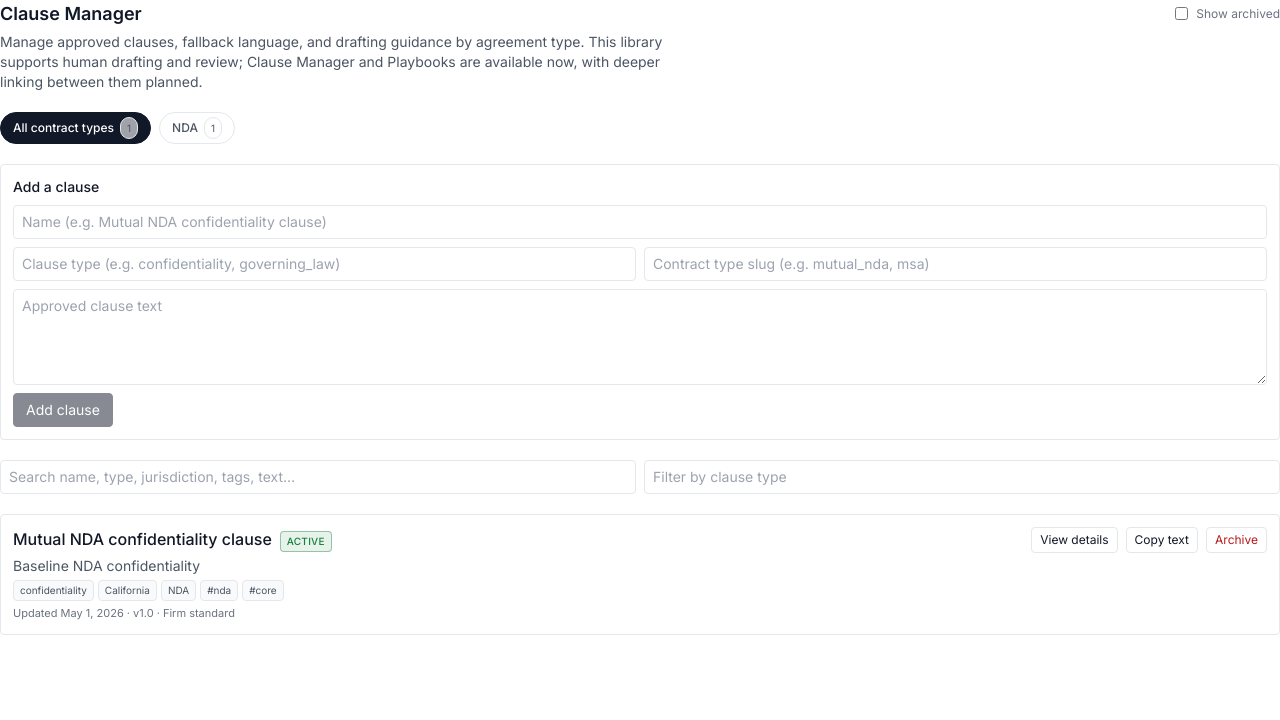
Test case: ClauseLibraryPage › expands and shows the clause text on demand
The image size is (1280, 720).
Check: the text "Mutual NDA confidentiality clause" is shown, box [13,527,272,551]
Click the button with test id "clause-toggle" at (1074, 540), box [1031,527,1118,553]
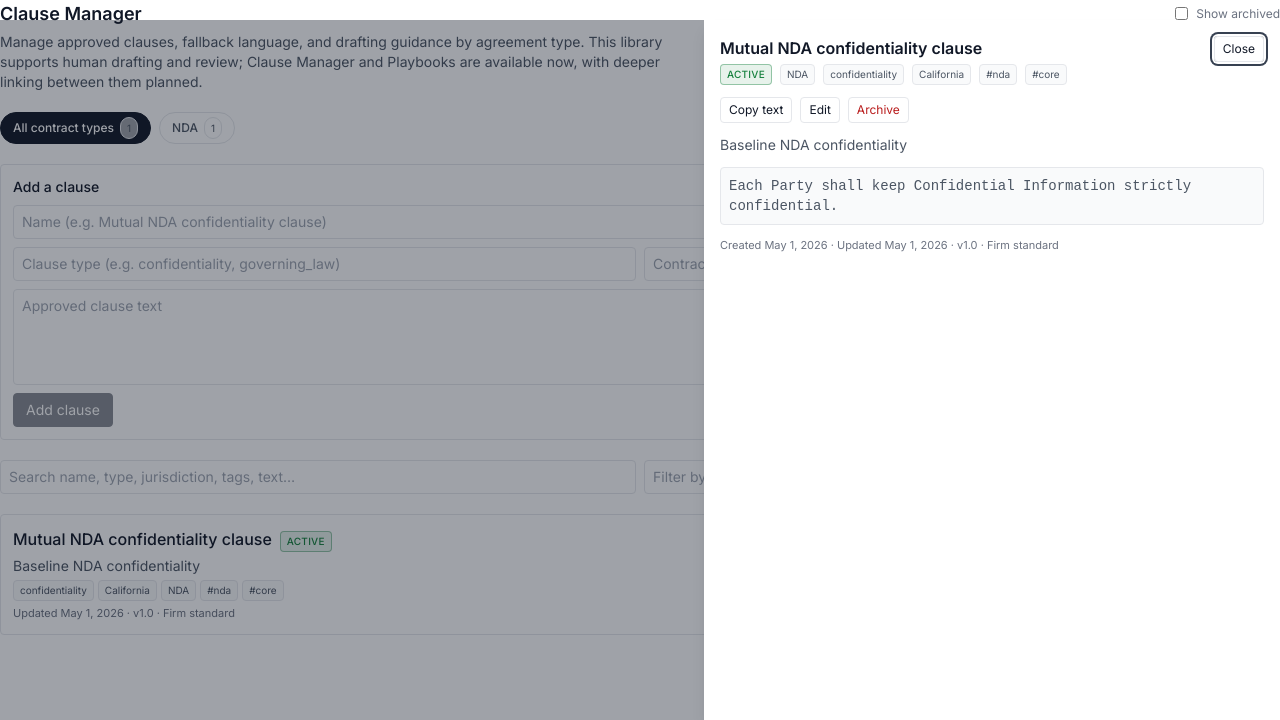
Check: the text with test id "clause-text" shows "Confidential Information", box [729,178,1200,214]
